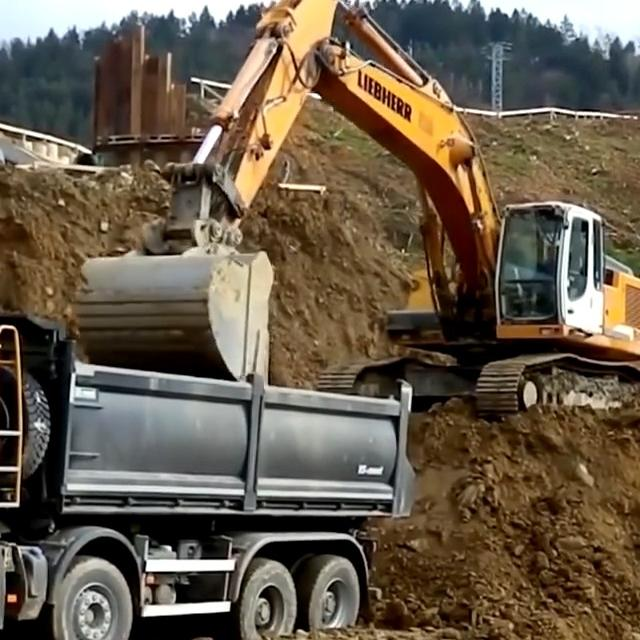Person: (546, 247, 581, 308)
machinery: (70, 0, 640, 418), (0, 285, 419, 640)
